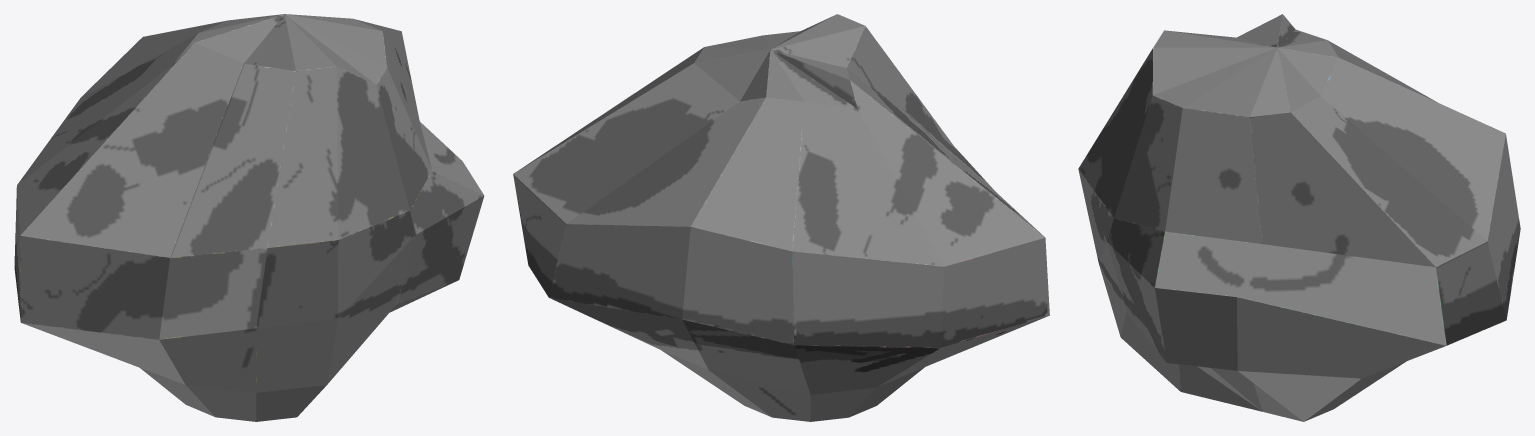
The picture shows the model from 3 angles, left to right: view 1: azimuth 30°, elevation 25°; view 2: azimuth 150°, elevation 25°; view 3: azimuth 270°, elevation 25°; orthographic projection. The views are drawn at different scales.
Parts seen in each view (by area): view 1: sphere; view 2: sphere; view 3: sphere.
Part boxes in pixels (x1,y1,x2,y2): sphere: (14, 14, 484, 421); sphere: (513, 14, 1049, 421); sphere: (1078, 14, 1520, 421).
Size of the model in its own units: 295 by 225 by 236.
1 material, 1 textured.
